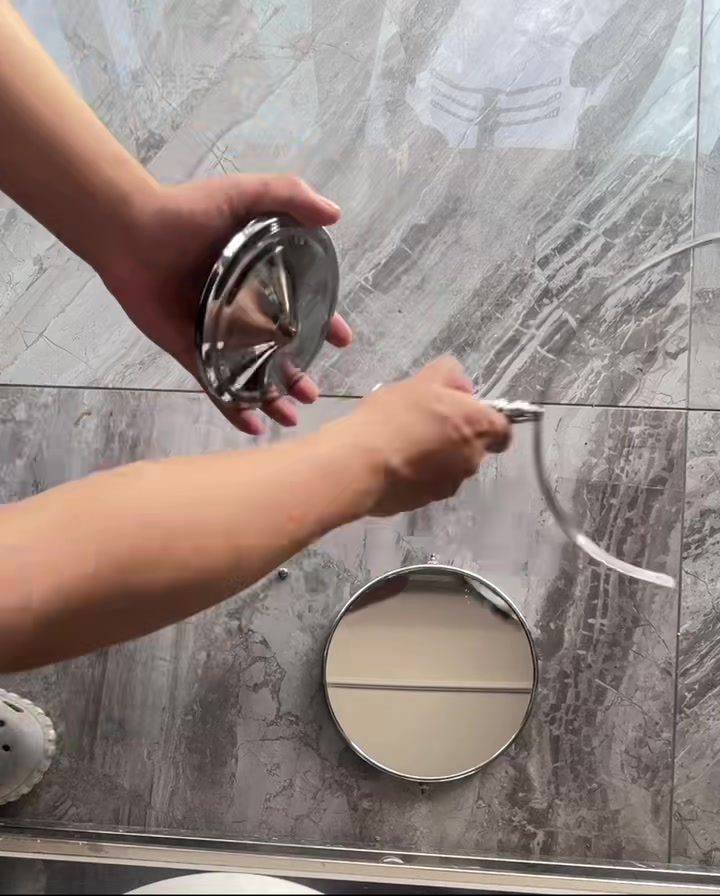base: (193, 205, 344, 399)
frame: (429, 247, 716, 586)
mirror: (319, 558, 541, 780)
screw: (267, 561, 298, 591)
